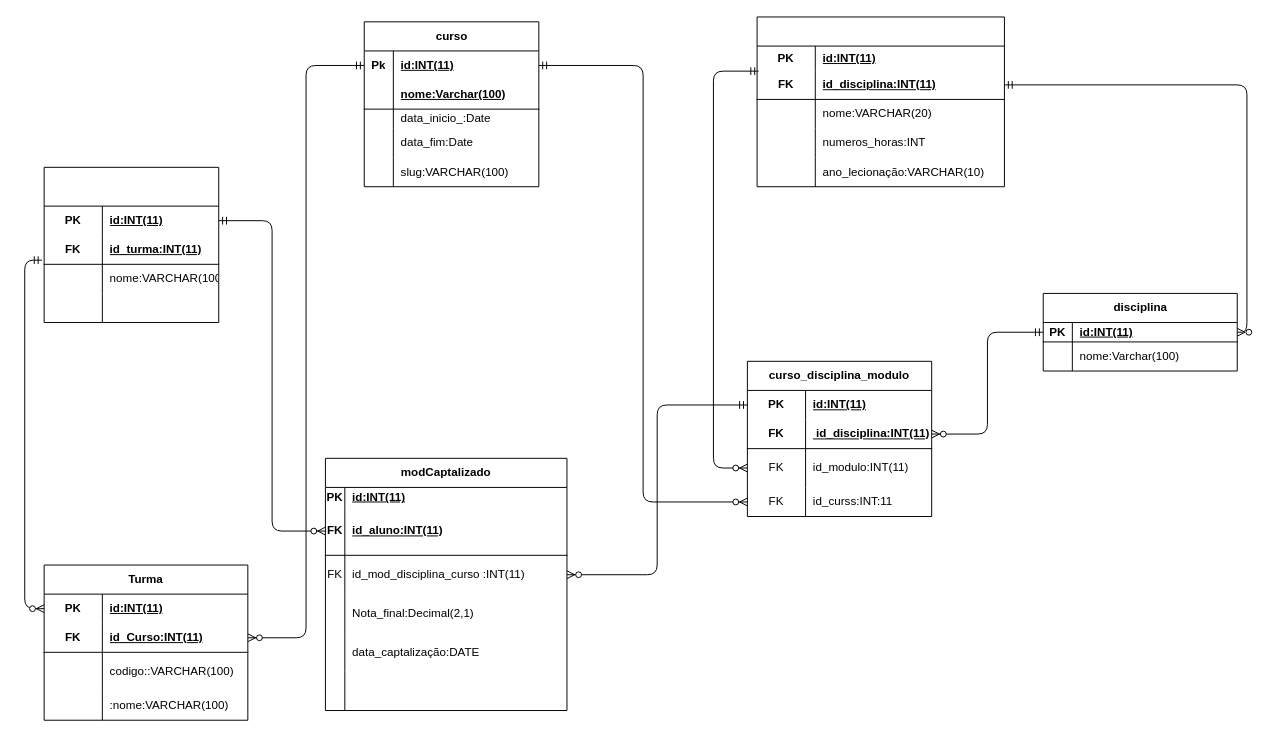
Image size: 1273x737. Some labels were removed from this diagram. The shapes that lost their labels are listed below. From the top down, each one's box as (x1, y1, x2, y2) in pixels, then its label:
(756, 16, 1004, 187): modulo
(43, 166, 219, 323): aluno
